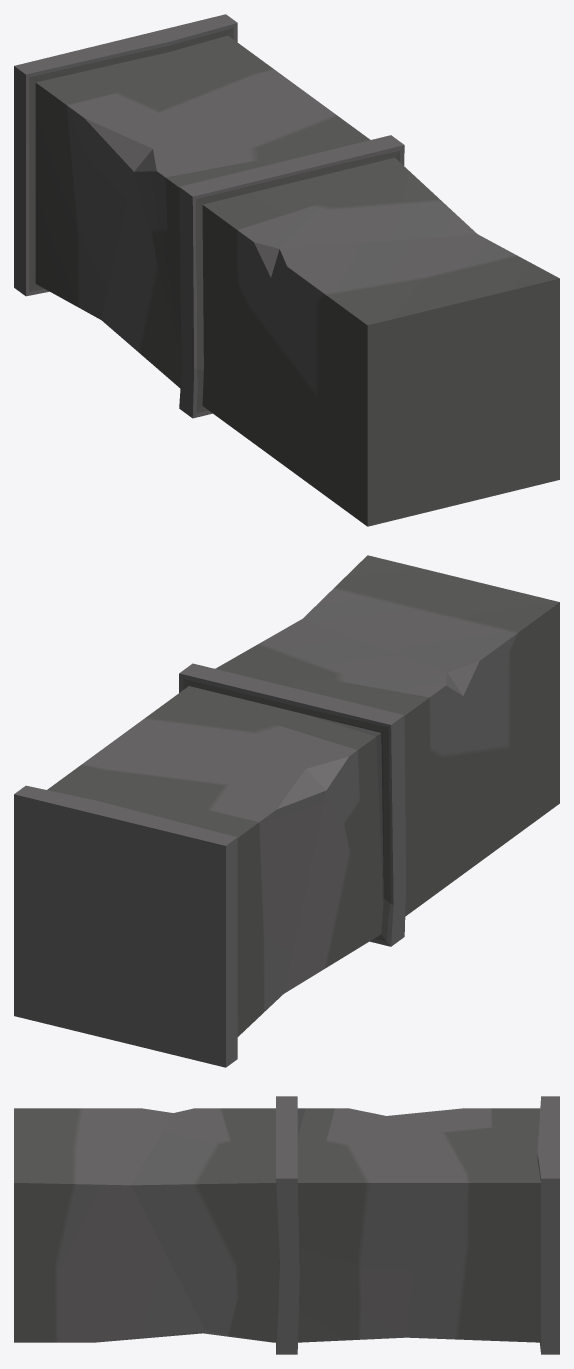
Rendered from SM_Prop_Air_Duct_01.fbx.
3 views of the same model, one above another, from view 1: azimuth 30°, elevation 25°; view 2: azimuth 150°, elevation 25°; view 3: azimuth 270°, elevation 25° (orthographic). The views are drawn at different scales.
Parts seen in each view (by area): view 1: SM_Prop_Air_Duct_01; view 2: SM_Prop_Air_Duct_01; view 3: SM_Prop_Air_Duct_01.
Part boxes in pixels (box(x1,y1,x2,y2)): SM_Prop_Air_Duct_01: box(14, 14, 559, 526); SM_Prop_Air_Duct_01: box(14, 555, 559, 1067); SM_Prop_Air_Duct_01: box(14, 1096, 559, 1354).
Size of the model in its own units: 88.97 by 88.97 by 250.
